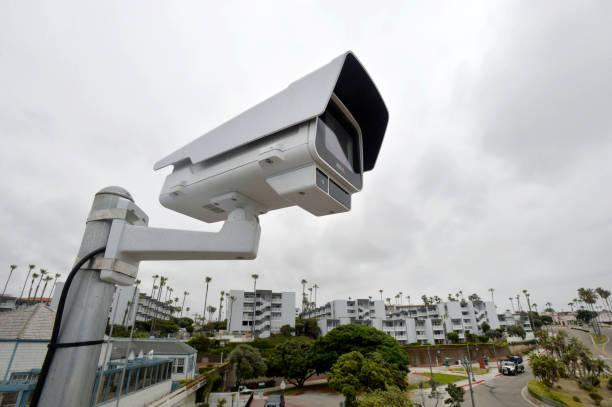camera: (134, 43, 429, 250)
